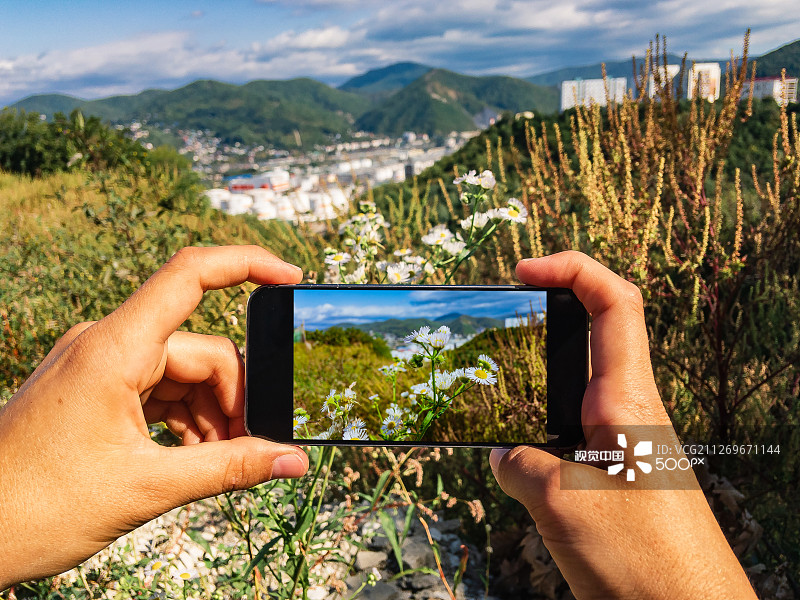taking photos: (1, 191, 418, 600), (366, 227, 793, 600)
